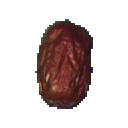gd: (23, 7, 103, 118)
